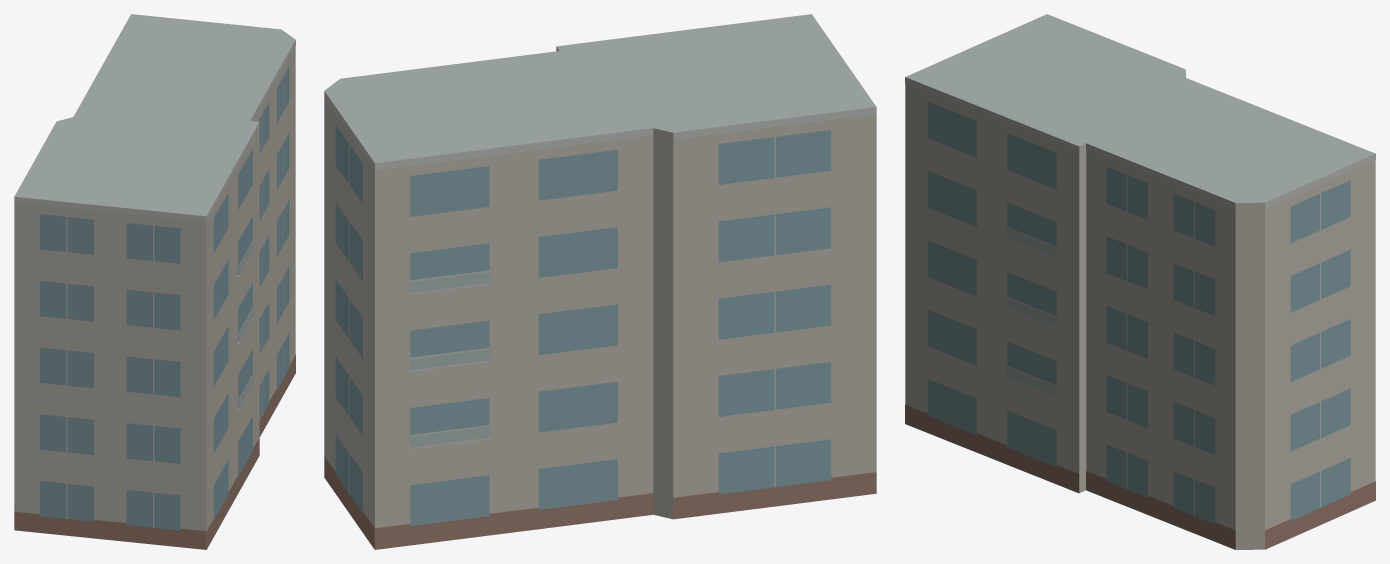
Rendered from survey-upis-32792185.glb.
3 renders of one model, left to right at view 1: azimuth 30°, elevation 25°; view 2: azimuth 150°, elevation 25°; view 3: azimuth 270°, elevation 25°, orthographic. The views are drawn at different scales.
Parts seen in each view (by area): view 1: survey-upis-32792185.tmp; view 2: survey-upis-32792185.tmp; view 3: survey-upis-32792185.tmp.
Part boxes in pixels (box(x1,y1,x2,y2)): survey-upis-32792185.tmp: box(14, 14, 295, 549); survey-upis-32792185.tmp: box(324, 14, 876, 549); survey-upis-32792185.tmp: box(905, 14, 1375, 549).
Bounding box in the file's own units: 15.42 × 13.2 × 16.23.
